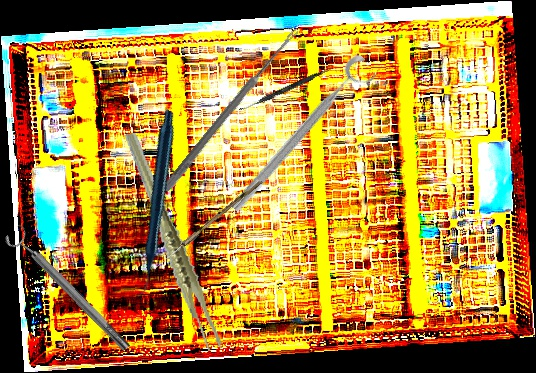Fixation Ring: (225, 51, 382, 224), (2, 221, 136, 359)
Handpiece: (58, 107, 248, 299)
Spatula Surgical: (238, 63, 335, 115)
Surgical Spoon: (161, 26, 300, 194), (152, 178, 263, 272)
Tissue Forceps: (122, 123, 224, 360)
